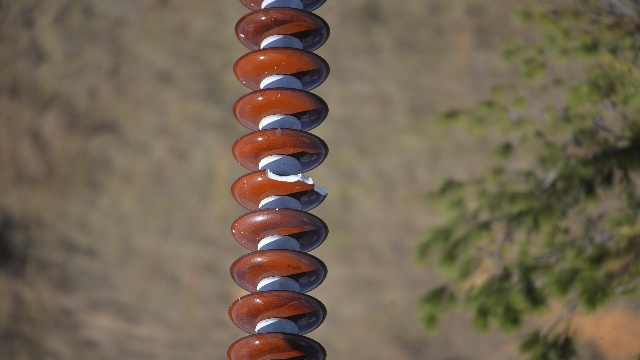broken_local: (261, 167, 330, 197)
insulator_unspecified: (226, 0, 330, 359)
